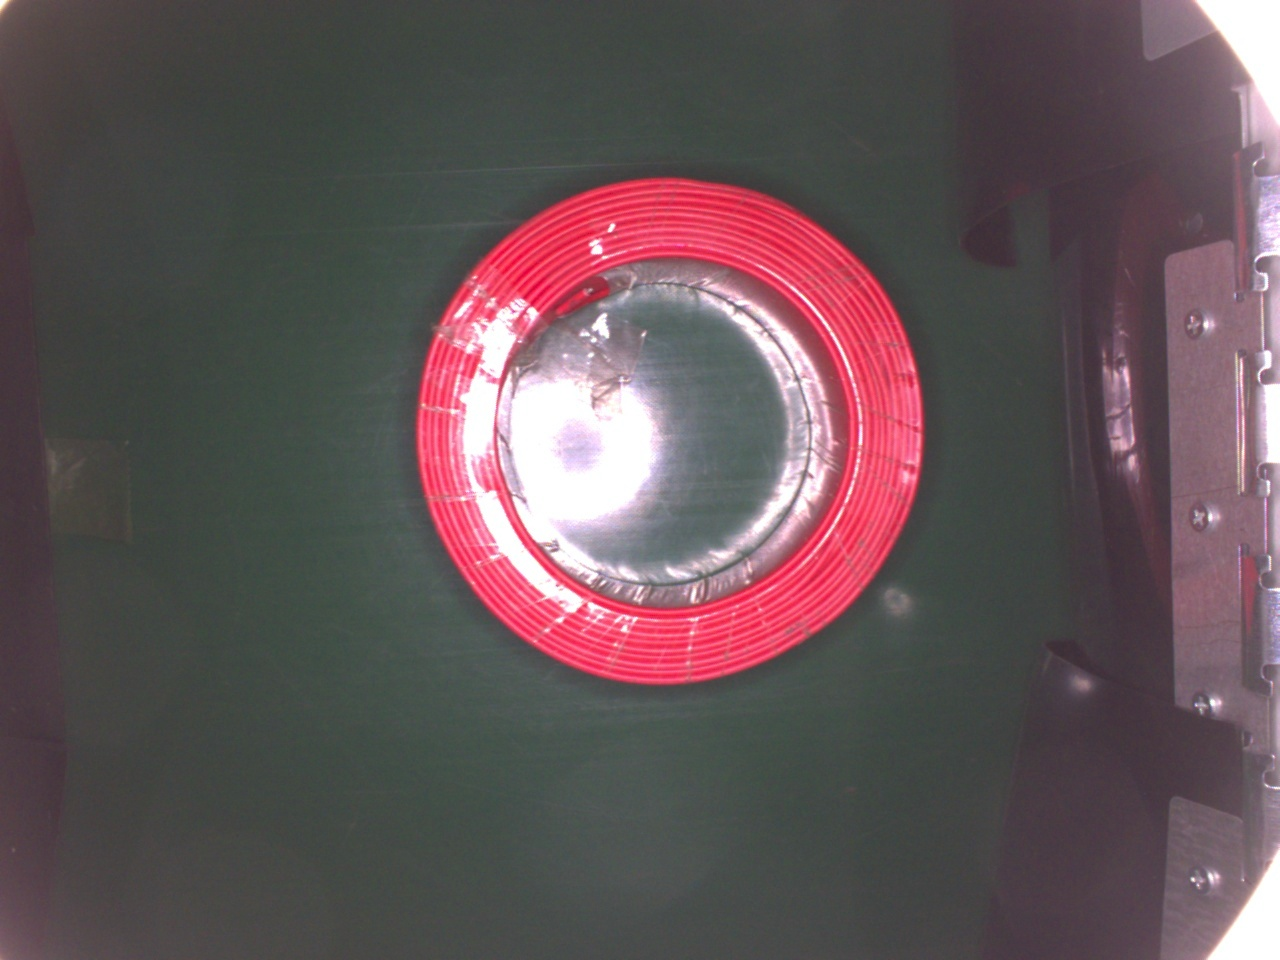red: (414, 174, 925, 688)
